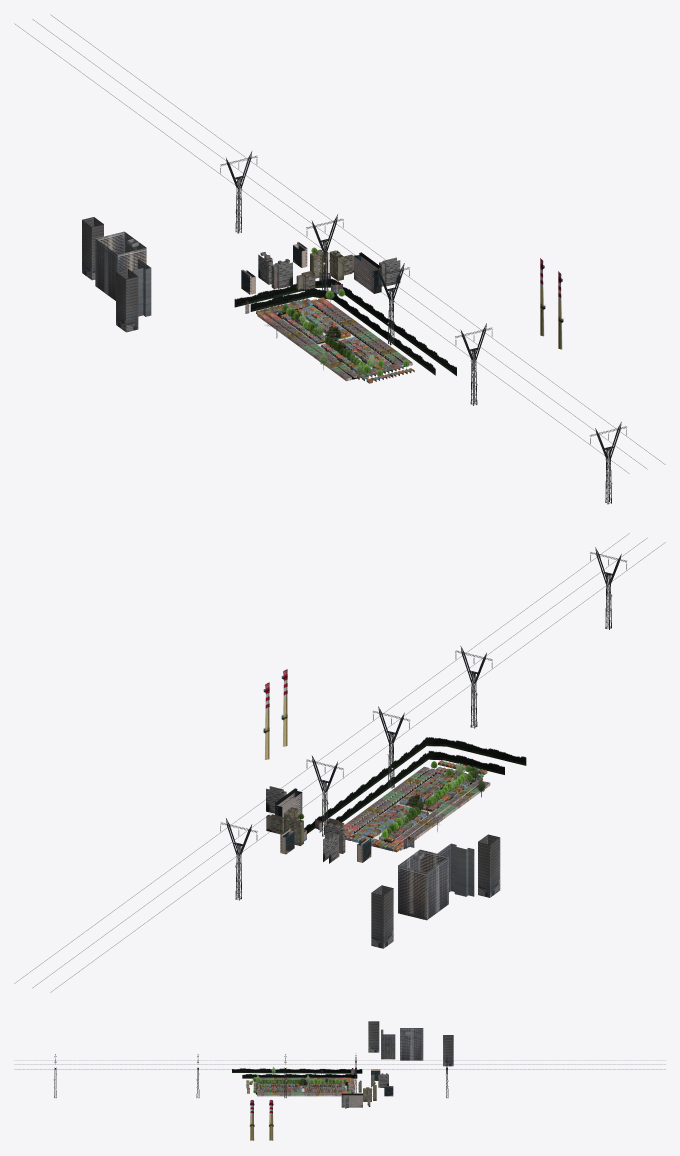
The model's file is garage_block.glb.
3 views of the same model, one above another, from view 1: azimuth 30°, elevation 25°; view 2: azimuth 150°, elevation 25°; view 3: azimuth 270°, elevation 25° (orthographic). The views are drawn at different scales.
Visible parts, largest first — view 1: building, solid_garage, garage, treeline_001, wire_trans_tower, treeline, trees; view 2: building, garage, solid_garage, treeline_001, wire_trans_tower, treeline, trees, chimney_001; view 3: building, garage, solid_garage, treeline_001, trees, wire_trans_tower, treeline, chimney_001.
Boxes of the visible parts, x1,y1,x2,y2 form: building: (82, 217, 400, 332); solid_garage: (257, 297, 412, 381); garage: (256, 298, 414, 383); treeline_001: (234, 278, 456, 375); wire_trans_tower: (14, 14, 665, 473); treeline: (250, 288, 435, 375); trees: (282, 247, 409, 376); building: (266, 786, 500, 948); garage: (345, 760, 487, 852); solid_garage: (344, 766, 490, 850); treeline_001: (304, 737, 526, 833); wire_trans_tower: (14, 533, 665, 992); treeline: (324, 751, 504, 834); trees: (298, 761, 485, 839); chimney_001: (263, 669, 287, 759); building: (341, 1021, 453, 1108); garage: (246, 1078, 354, 1093); solid_garage: (257, 1077, 351, 1096); treeline_001: (232, 1068, 362, 1073); trees: (249, 1066, 375, 1093); wire_trans_tower: (14, 1064, 665, 1069); treeline: (242, 1074, 357, 1078); chimney_001: (249, 1099, 273, 1140).
Size of the model in its own units: 543 by 148 by 1769.
56 materials, 52 textured.
